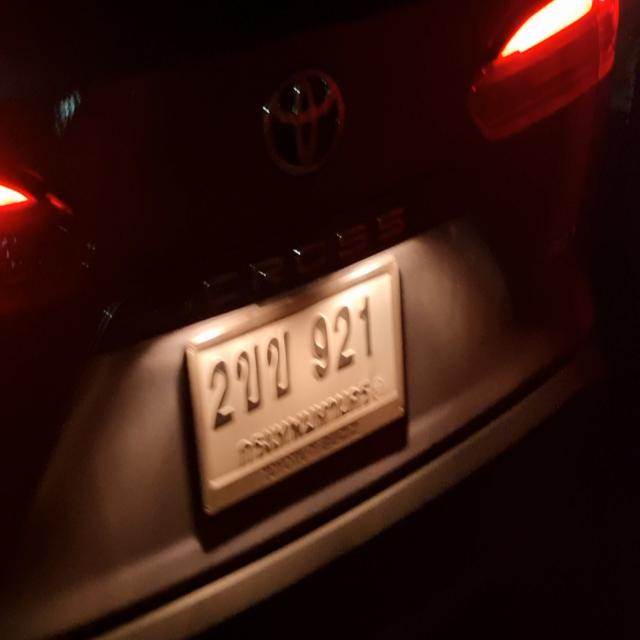license_plate: (183, 249, 408, 528)
